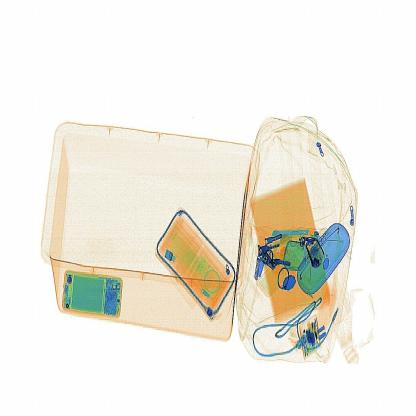pliers: (265, 223, 320, 246)
